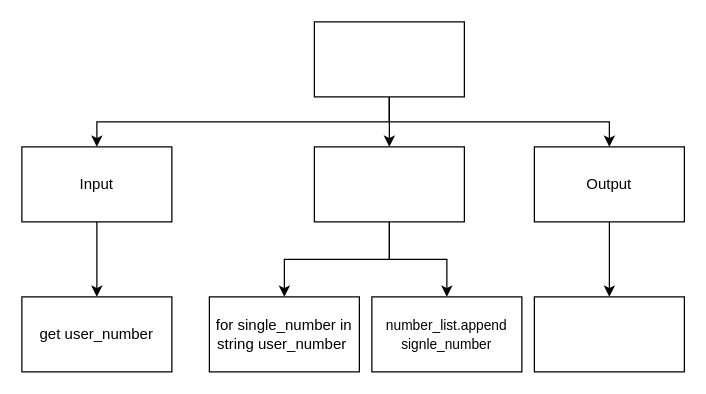
Image size: 706x394. Some labels were removed from this diagram. Here are the shapes that lost their labels. From the top down, the box of each, then its label:
(313, 21, 464, 97): the greatest number
(313, 146, 464, 222): Process
(533, 296, 684, 372): output number
